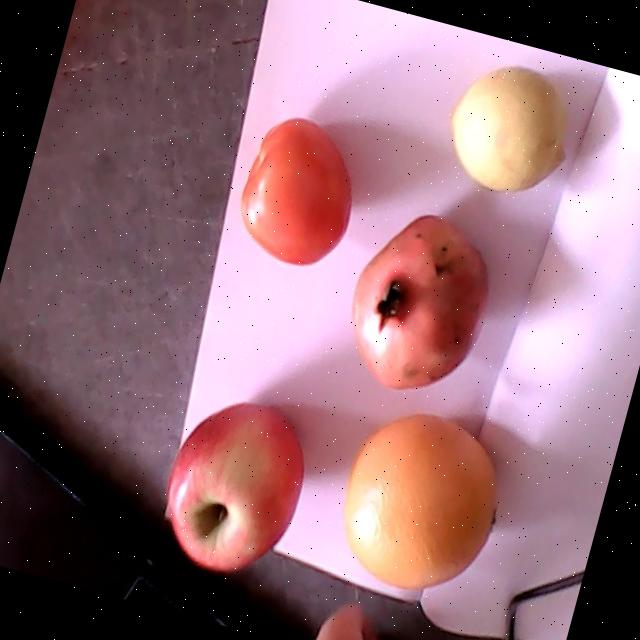apple: (166, 402, 303, 572)
lemon: (450, 66, 565, 192)
orange: (344, 415, 496, 588)
pomegranate: (350, 214, 489, 387)
tomato: (239, 119, 351, 263)
